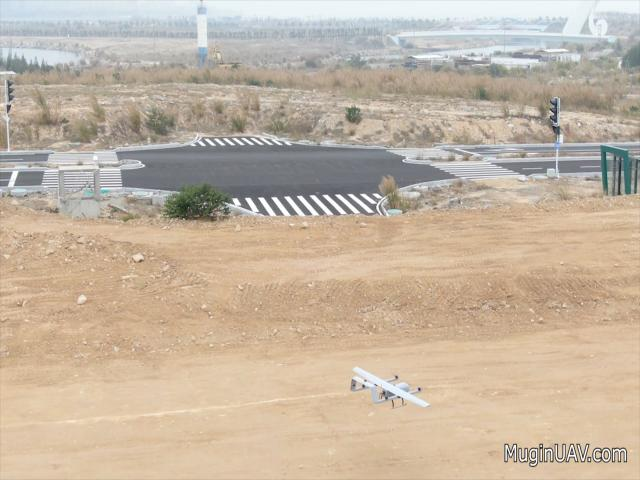plane: (351, 364, 429, 412)
